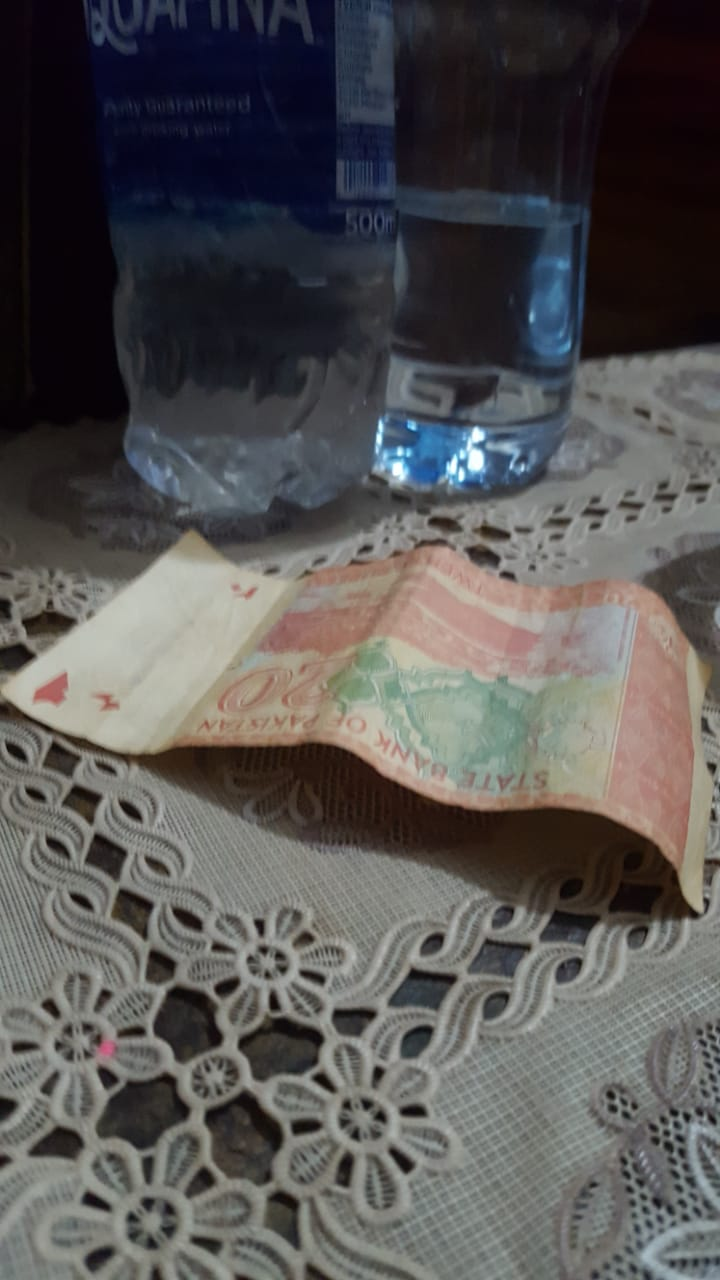20 rupee: (6, 466, 695, 912)
